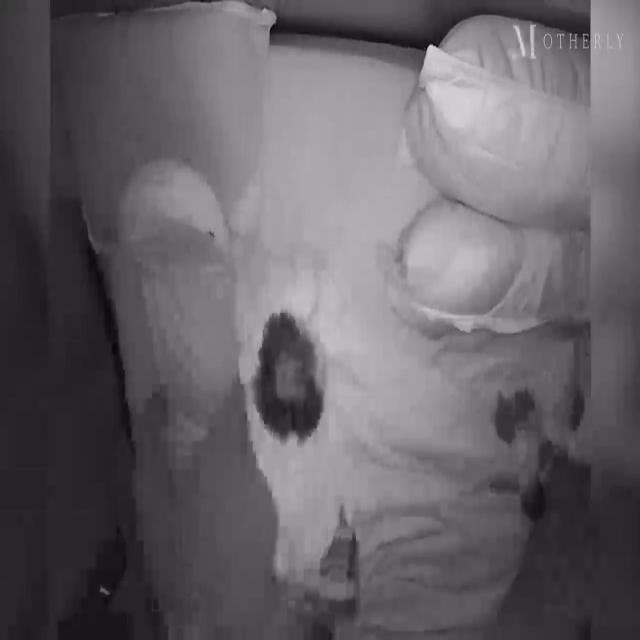baby: (246, 311, 341, 586)
